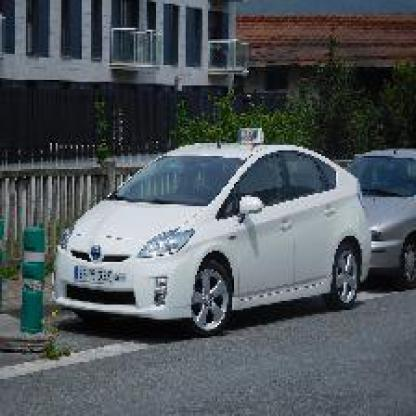not_emergency: (50, 130, 379, 344)
